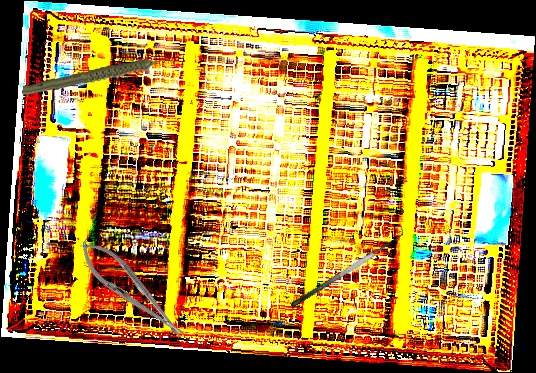Handpiece: (22, 52, 175, 102)
Needle Holder: (70, 231, 193, 348)
Spatula Surgical: (284, 223, 409, 309)
